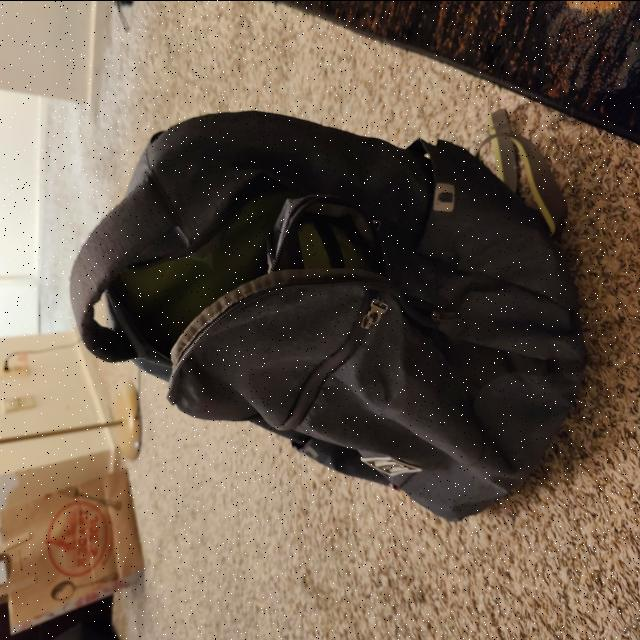bag: (77, 134, 568, 516)
